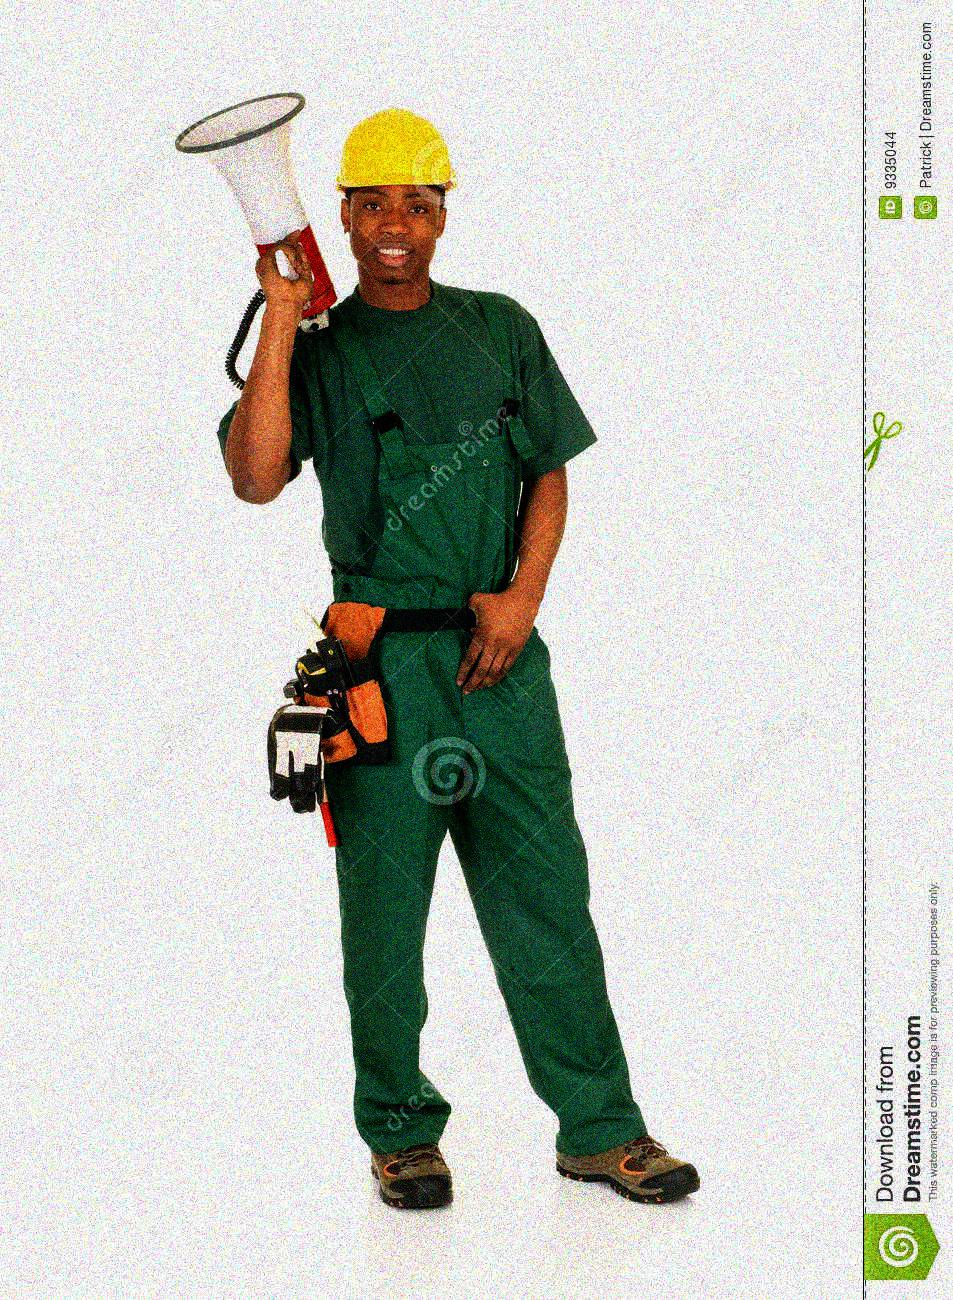helmet: (331, 107, 457, 276)
